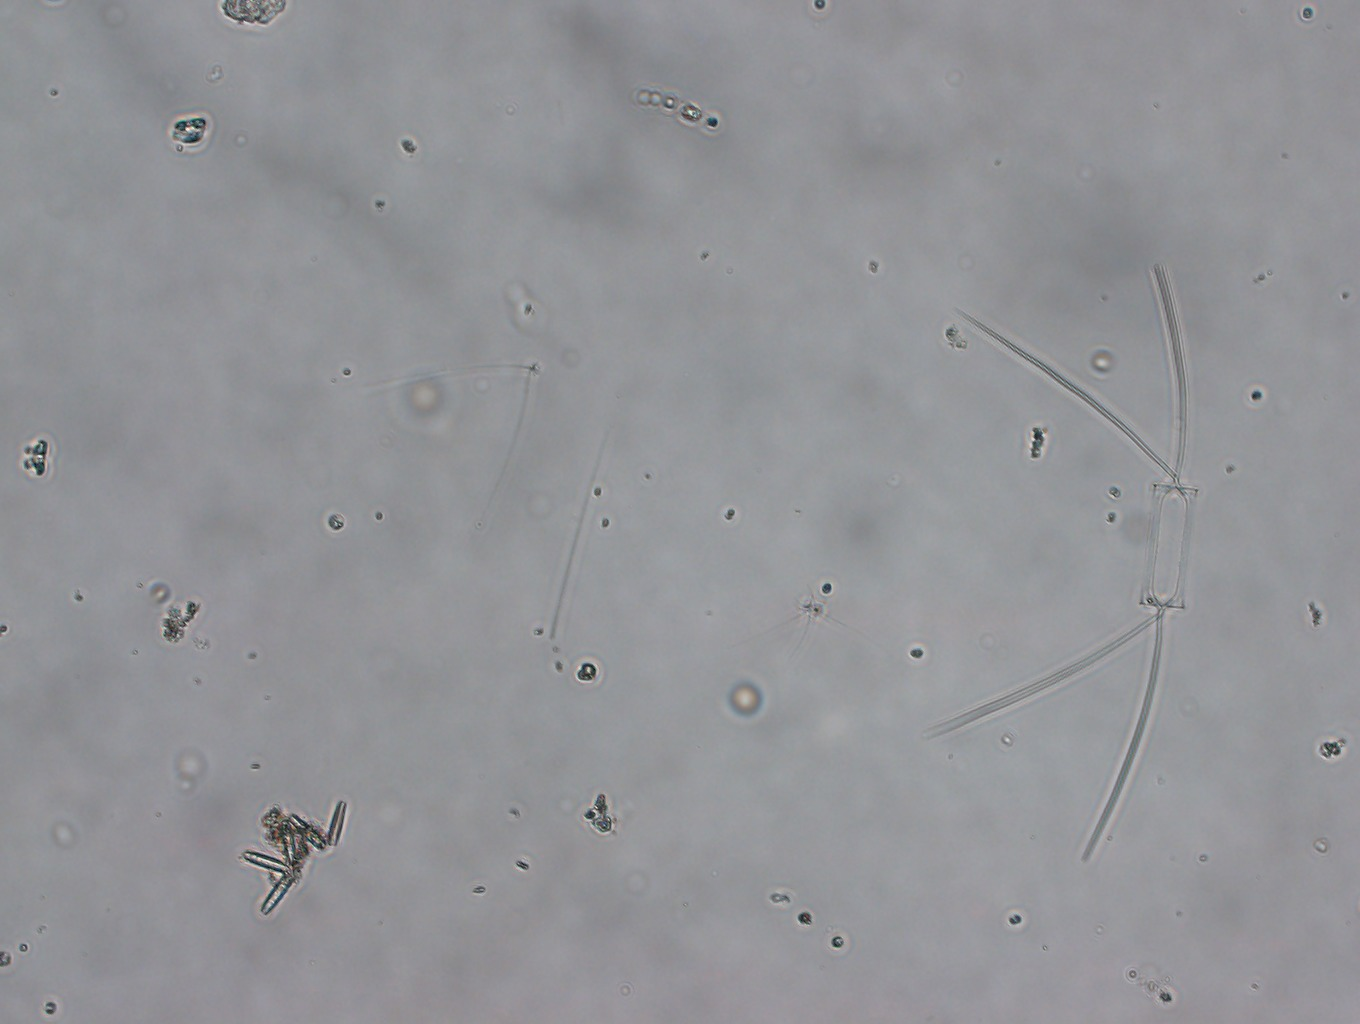chaetoceros: (912, 243, 1212, 867)
thalassionema nitzschioides: (240, 796, 349, 919)
